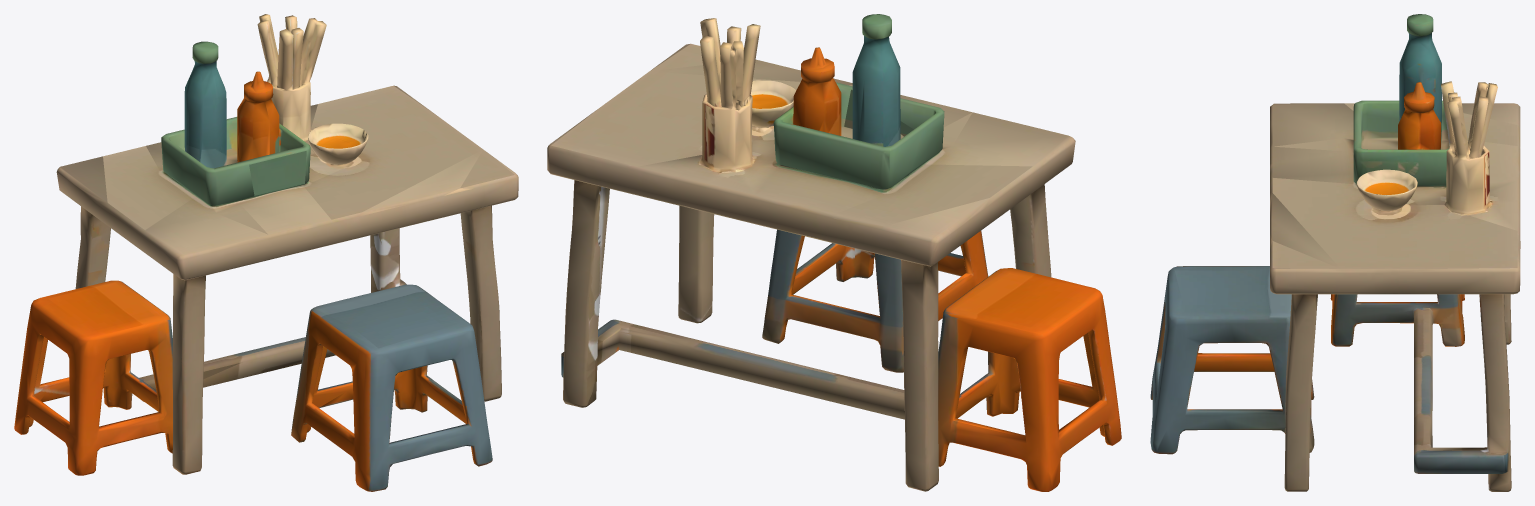
The model's file is table_and_chair.glb.
3 renders of one model, left to right at view 1: azimuth 30°, elevation 25°; view 2: azimuth 150°, elevation 25°; view 3: azimuth 270°, elevation 25°, orthographic. The views are drawn at different scales.
Parts seen in each view (by area): view 1: model_LOD4; view 2: model_LOD4; view 3: model_LOD4.
Part boxes in pixels (x1,y1,x2,y2): model_LOD4: (14, 14, 518, 491); model_LOD4: (547, 14, 1121, 491); model_LOD4: (1150, 14, 1520, 491).
Bounding box in the file's own units: 1.9 × 1.58 × 1.47.
1 material, 1 textured.
